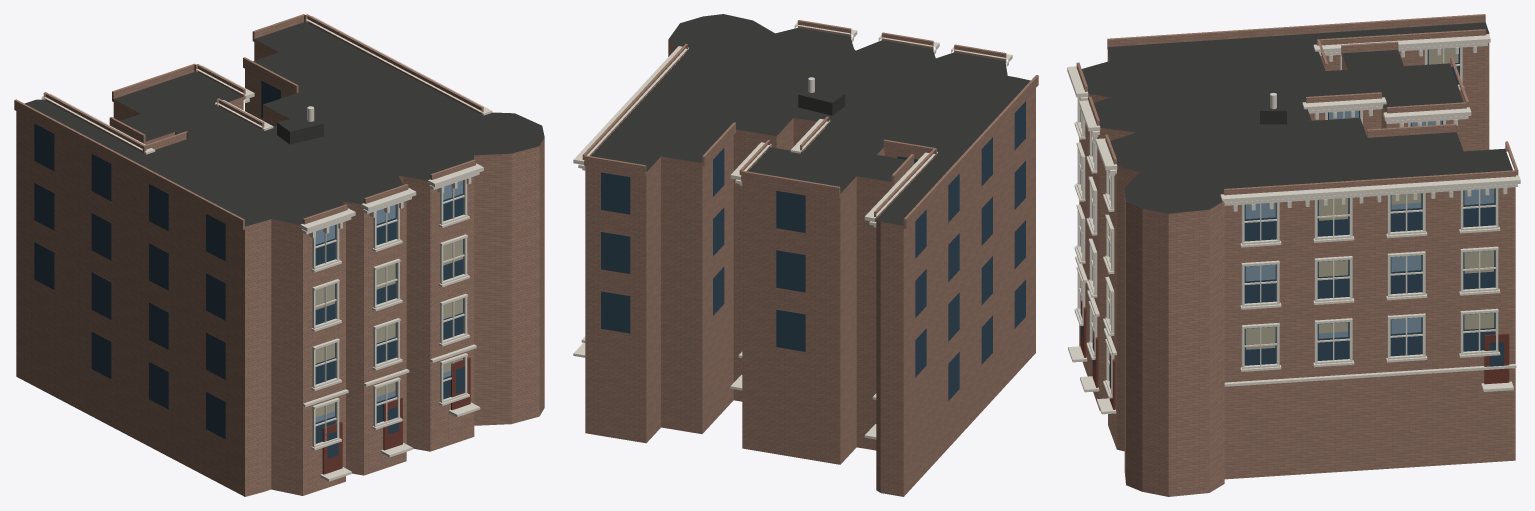
The picture shows the model from 3 angles, left to right: view 1: azimuth 30°, elevation 25°; view 2: azimuth 150°, elevation 25°; view 3: azimuth 270°, elevation 25°; orthographic projection. The views are drawn at different scales.
Parts seen in each view (by area): view 1: Footprint 0 / surface 2, Footprint 0 / surface 1, Inset glazing, Cornices and window frames, Facade bay volumes, Interior blind variation, Storefronts and doors, Sky reflection panels; view 2: Footprint 0 / surface 2, Footprint 0 / surface 1, Inset glazing, Facade bay volumes, Cornices and window frames; view 3: Footprint 0 / surface 2, Footprint 0 / surface 1, Cornices and window frames, Facade bay volumes, Inset glazing, Interior blind variation, Sky reflection panels, Storefronts and doors.
Part boxes in pixels (x1,y1,x2,y2): Footprint 0 / surface 2: [16, 39, 544, 496]; Footprint 0 / surface 1: [24, 22, 544, 226]; Inset glazing: [34, 80, 464, 458]; Cornices and window frames: [41, 16, 492, 481]; Facade bay volumes: [14, 14, 483, 229]; Interior blind variation: [315, 239, 462, 417]; Storefronts and doors: [322, 357, 470, 474]; Sky reflection panels: [315, 180, 462, 422]; Footprint 0 / surface 2: [585, 40, 1035, 496]; Footprint 0 / surface 1: [591, 14, 1030, 225]; Inset glazing: [601, 101, 1025, 400]; Facade bay volumes: [582, 20, 1038, 229]; Cornices and window frames: [573, 22, 1012, 439]; Footprint 0 / surface 2: [1079, 33, 1515, 496]; Footprint 0 / surface 1: [1082, 22, 1512, 213]; Cornices and window frames: [1067, 34, 1520, 414]; Facade bay volumes: [1076, 14, 1518, 195]; Inset glazing: [1080, 47, 1504, 387]; Interior blind variation: [1080, 48, 1493, 353]; Sky reflection panels: [1080, 48, 1494, 358]; Storefronts and doors: [1080, 299, 1509, 409].
Size of the model in its own units: 20.05 by 15.05 by 19.96.
